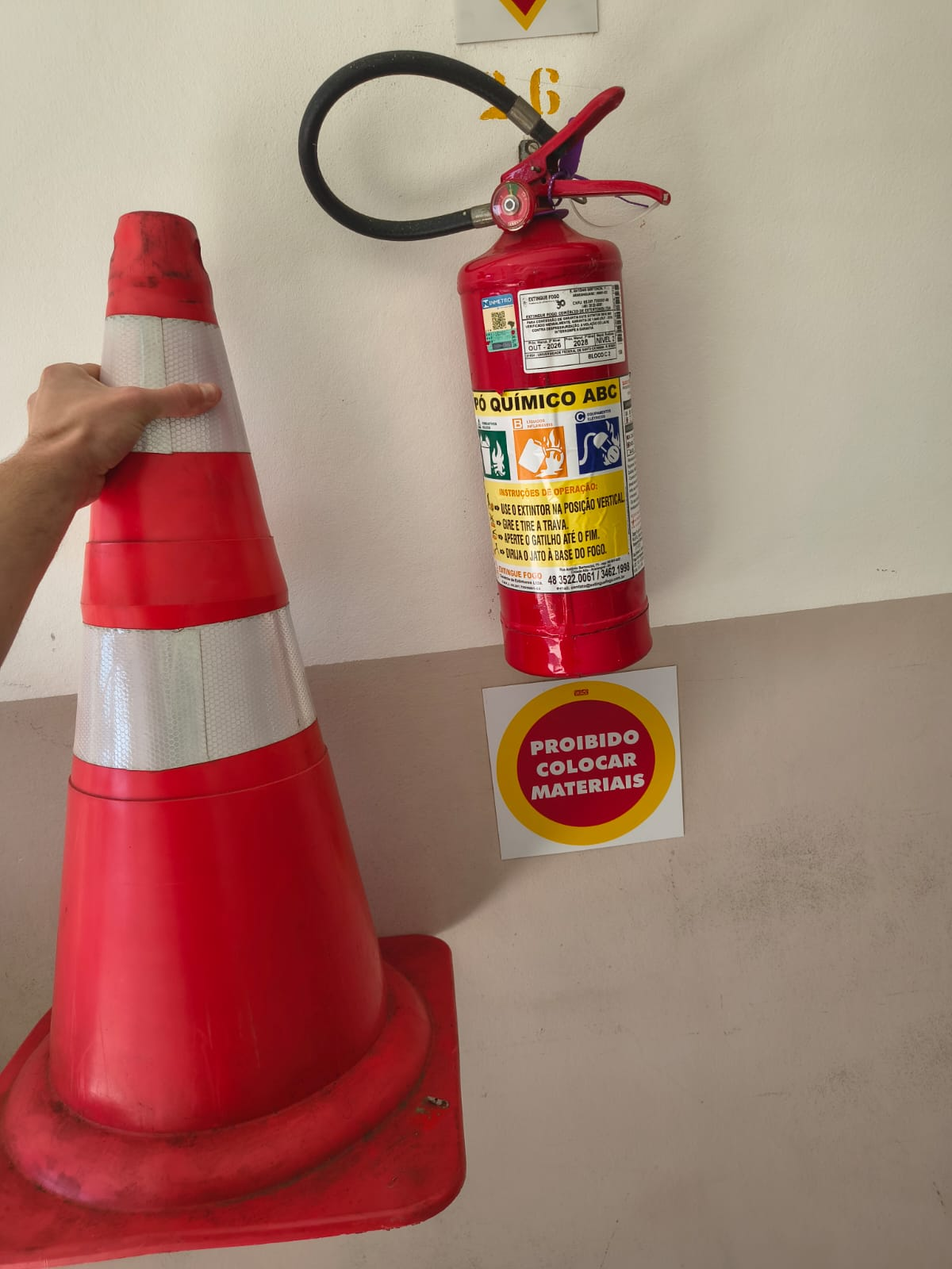cone: (11, 207, 448, 1240)
